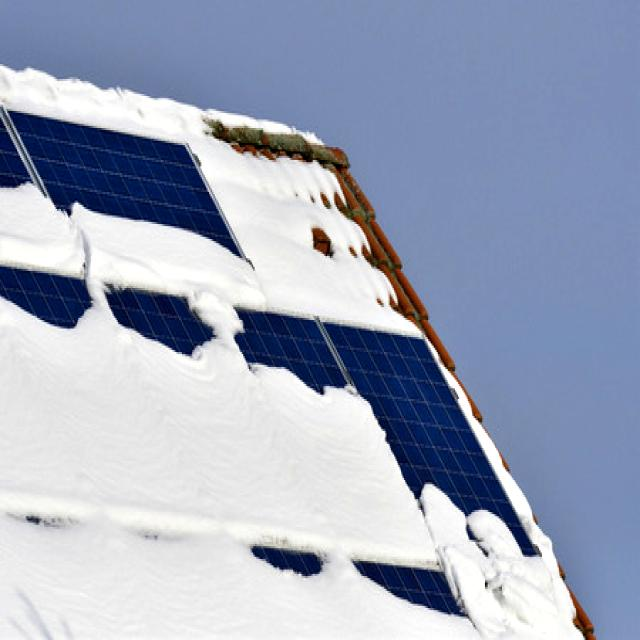panel: (300, 206, 418, 338), (264, 527, 382, 615), (223, 514, 347, 592), (216, 188, 288, 315), (139, 308, 243, 388), (384, 443, 468, 528), (0, 300, 104, 364), (468, 502, 548, 585), (390, 564, 479, 630), (13, 467, 83, 548), (69, 168, 140, 239), (168, 106, 228, 190), (114, 269, 194, 329), (113, 489, 178, 562), (267, 348, 345, 408), (35, 253, 110, 315), (76, 96, 154, 154), (4, 142, 57, 225), (362, 393, 419, 466), (151, 196, 222, 252), (0, 76, 68, 131), (0, 248, 31, 291)
